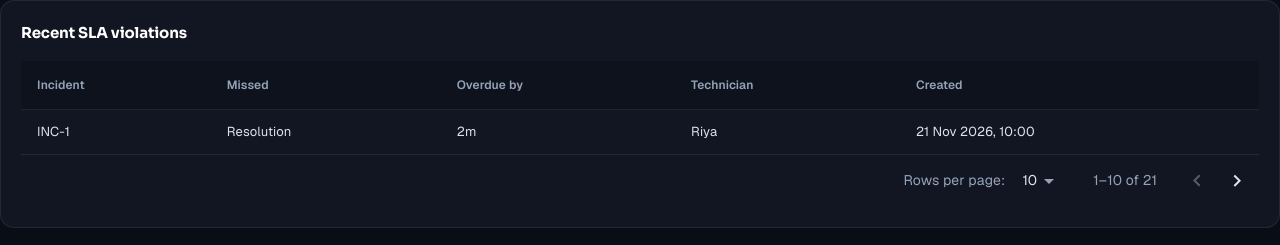
Test case: remaining Task 3 screens › loads the next SLA-violation table page when pagination is used
Expected: the text "INC-1" is shown, left=21, top=110, right=211, bottom=154
Click the button named "Go to next page".
click(1237, 180)  # box left=1217, top=160, right=1257, bottom=200
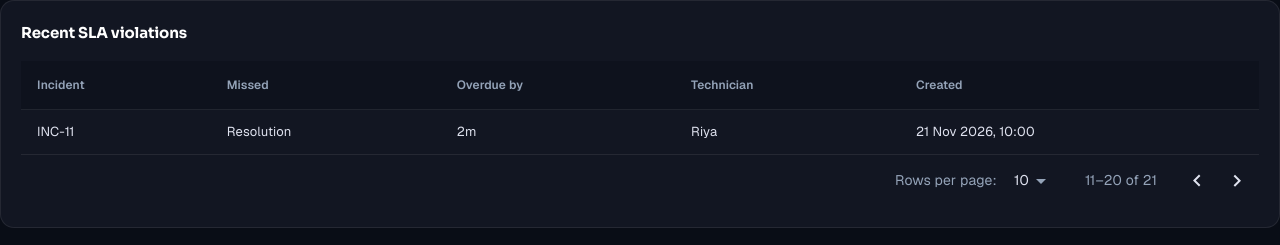
Expected: the text "INC-11" is shown, left=21, top=110, right=211, bottom=154
